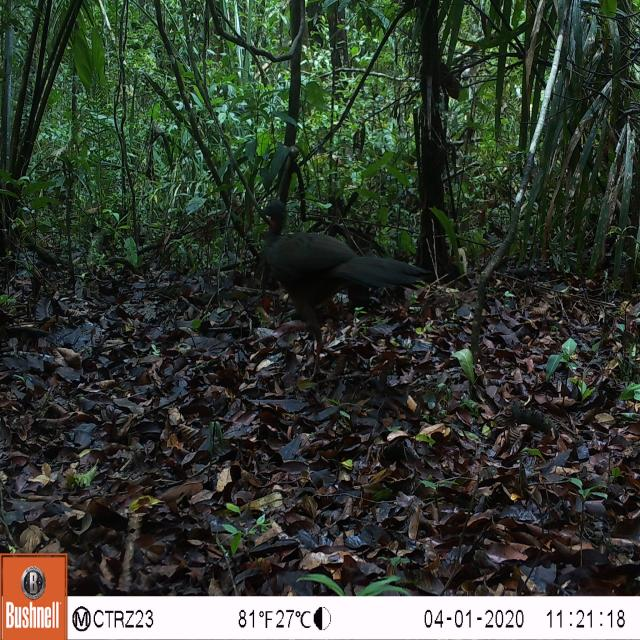Spixs Guan: (248, 191, 434, 381)
